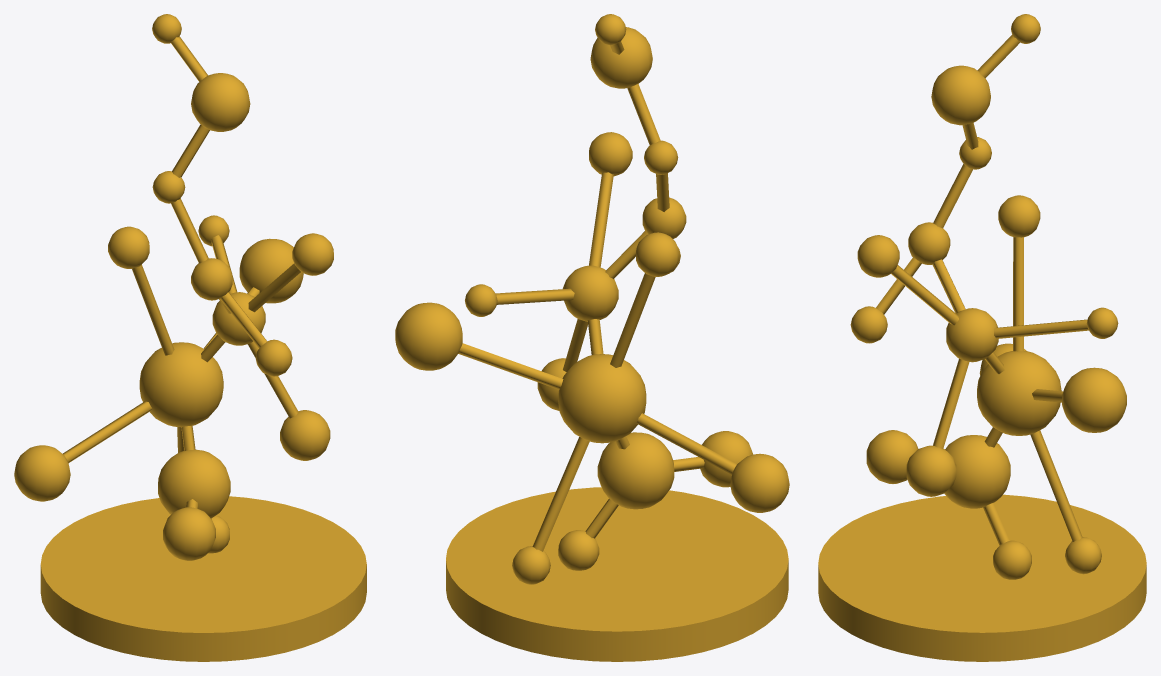
The model's file is chemistry.glb.
3 renders of one model, left to right at view 1: azimuth 30°, elevation 25°; view 2: azimuth 150°, elevation 25°; view 3: azimuth 270°, elevation 25°, orthographic. The views are drawn at different scales.
Visible parts, largest first — view 1: gold_cap, chemistry_award, hub_low, arm_1a, arm_1c, leg_a, arm_2a, arm_2c, arm_1d, bond_10, bond_11, arm_3a (+8 smaller); view 2: gold_cap, chemistry_award, hub_low, arm_1a, arm_1c, leg_a, arm_1d, arm_2c, bond_09, bond_10, leg_b, bond_08 (+9 smaller); view 3: gold_cap, chemistry_award, hub_low, arm_1a, arm_2a, leg_a, arm_2c, arm_1d, bond_09, leg_b, bond_11, bond_13 (+11 smaller).
Part boxes in pixels (<box>): gold_cap: <box>40,496,366,661</box>; chemistry_award: <box>139,73,265,427</box>; hub_low: <box>158,449,230,518</box>; arm_1a: <box>239,238,303,303</box>; arm_1c: <box>14,445,70,501</box>; leg_a: <box>163,507,215,560</box>; arm_2a: <box>280,410,330,460</box>; arm_2c: <box>292,233,333,275</box>; arm_1d: <box>108,226,149,268</box>; bond_10: <box>63,401,151,463</box>; bond_11: <box>132,264,174,355</box>; arm_3a: <box>255,339,292,376</box>; gold_cap: <box>446,487,788,661</box>; chemistry_award: <box>558,27,686,443</box>; hub_low: <box>597,432,674,509</box>; arm_1a: <box>395,302,462,370</box>; arm_1c: <box>730,453,789,512</box>; leg_a: <box>700,431,753,487</box>; arm_1d: <box>636,232,679,276</box>; arm_2c: <box>589,132,632,176</box>; bond_09: <box>532,437,589,551</box>; bond_10: <box>636,413,736,474</box>; leg_b: <box>558,530,599,570</box>; bond_08: <box>458,343,563,389</box>; gold_cap: <box>818,494,1146,661</box>; chemistry_award: <box>908,65,1061,435</box>; hub_low: <box>944,435,1010,508</box>; arm_1a: <box>1062,367,1126,432</box>; arm_2a: <box>906,445,956,496</box>; leg_a: <box>866,430,918,483</box>; arm_2c: <box>857,235,899,277</box>; arm_1d: <box>998,195,1040,237</box>; bond_09: <box>1030,430,1082,541</box>; leg_b: <box>993,540,1031,579</box>; bond_11: <box>1013,237,1023,351</box>; bond_13: <box>994,319,1088,338</box>.
Bounding box in the file's own units: 0.306 × 0.5093 × 0.2661.
